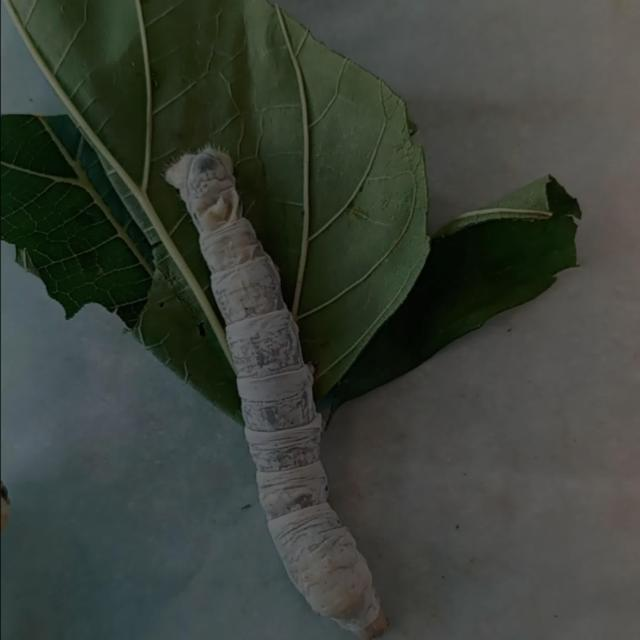Grasserie: (141, 123, 436, 640)
